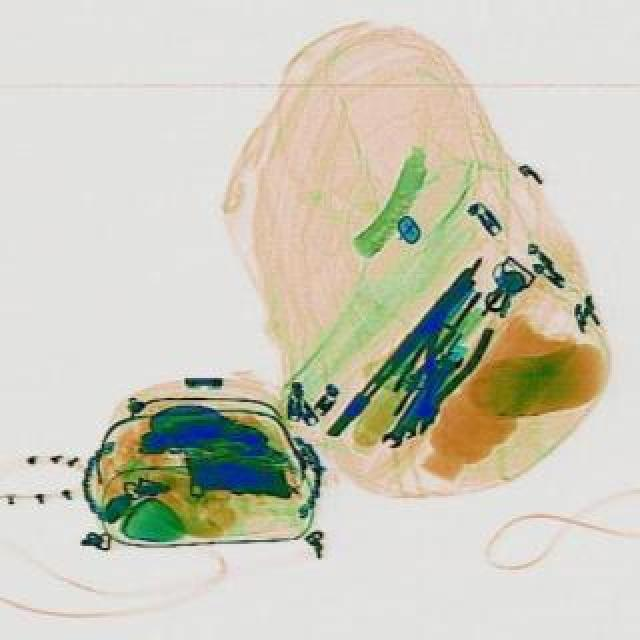scissors: (376, 344, 462, 452)
wrench: (388, 310, 492, 442)
